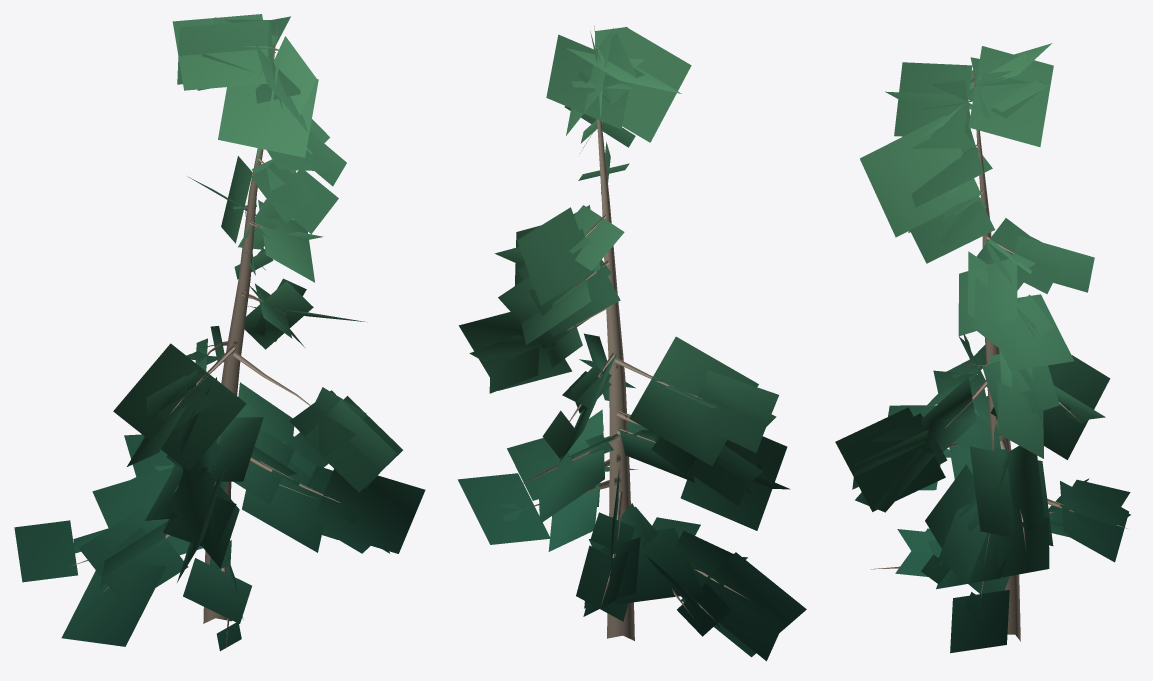
Rendered from pine-c.glb.
The picture shows the model from 3 angles, left to right: view 1: azimuth 30°, elevation 25°; view 2: azimuth 150°, elevation 25°; view 3: azimuth 270°, elevation 25°; orthographic projection.
Visible parts, largest first — view 1: pine-c; view 2: pine-c; view 3: pine-c.
Part boxes in pixels (x1,y1,x2,y2): pine-c: (14,14,425,651); pine-c: (457,26,806,661); pine-c: (835,43,1130,653).
Size of the model in its own units: 5.04 by 8.51 by 3.85.
